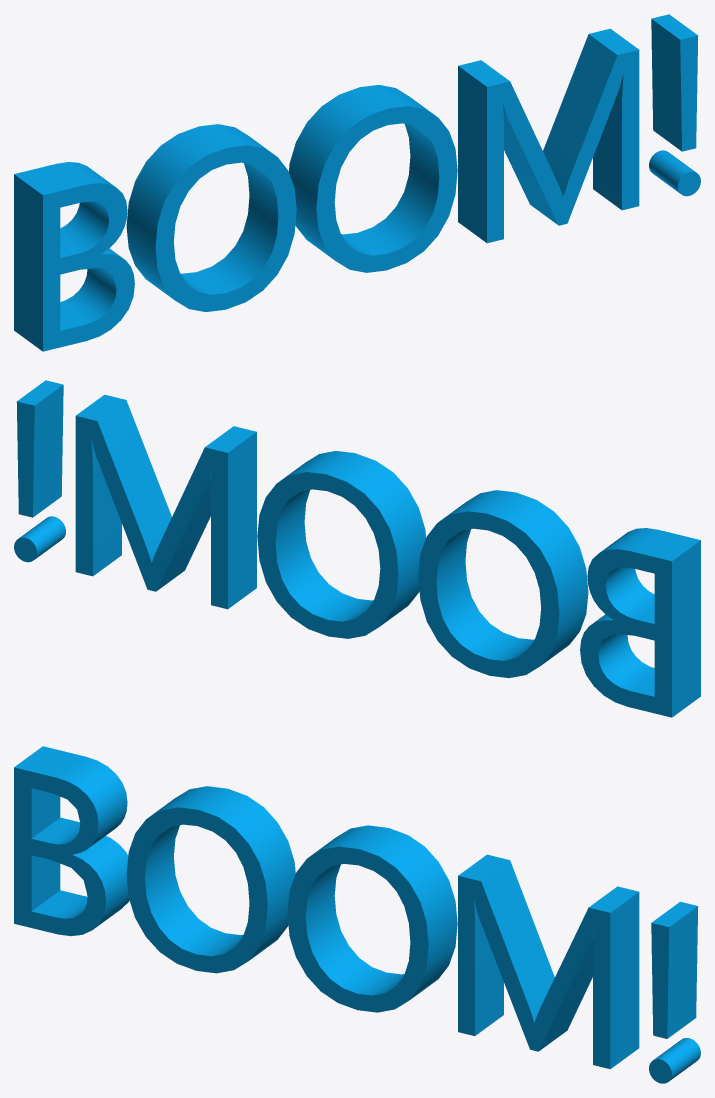
The model's file is BOOM.glb.
The picture shows the model from 3 angles, top to bottom: view 1: azimuth 30°, elevation 25°; view 2: azimuth 150°, elevation 25°; view 3: azimuth 330°, elevation 25°; orthographic projection.
Parts seen in each view (by area): view 1: mesh_id41; view 2: mesh_id41; view 3: mesh_id41.
Boxes of the visible parts, box(x1,y1,x2,y2) form: mesh_id41: box(14, 14, 700, 351); mesh_id41: box(14, 380, 700, 717); mesh_id41: box(14, 746, 700, 1083).
Bounding box in the file's own units: 0.1969 × 0.0462 × 0.015.
1 material, 1 textured.
